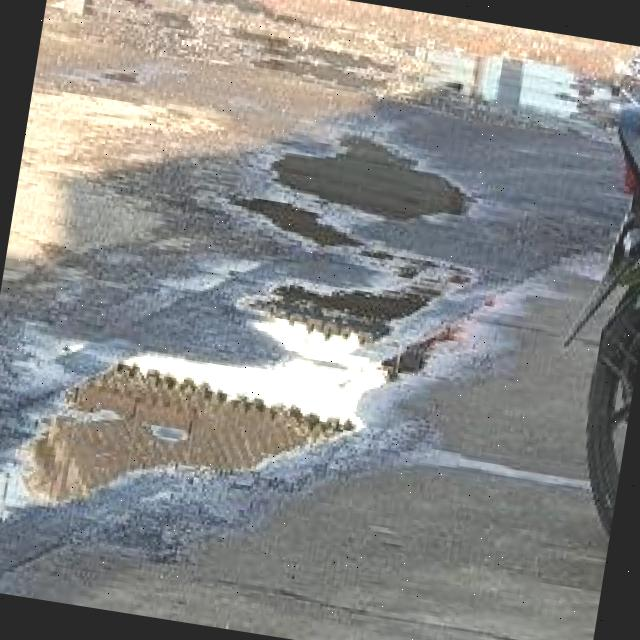waterlogging: (108, 260, 418, 480), (232, 113, 472, 230)
